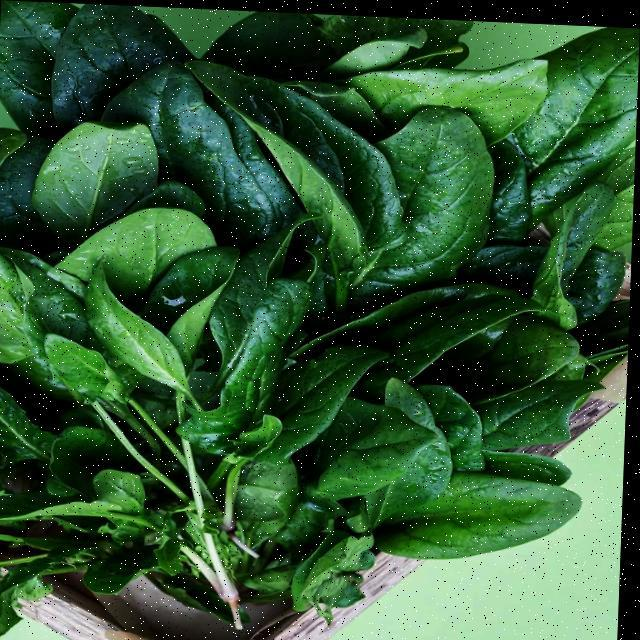Spinach: (0, 0, 640, 628)
